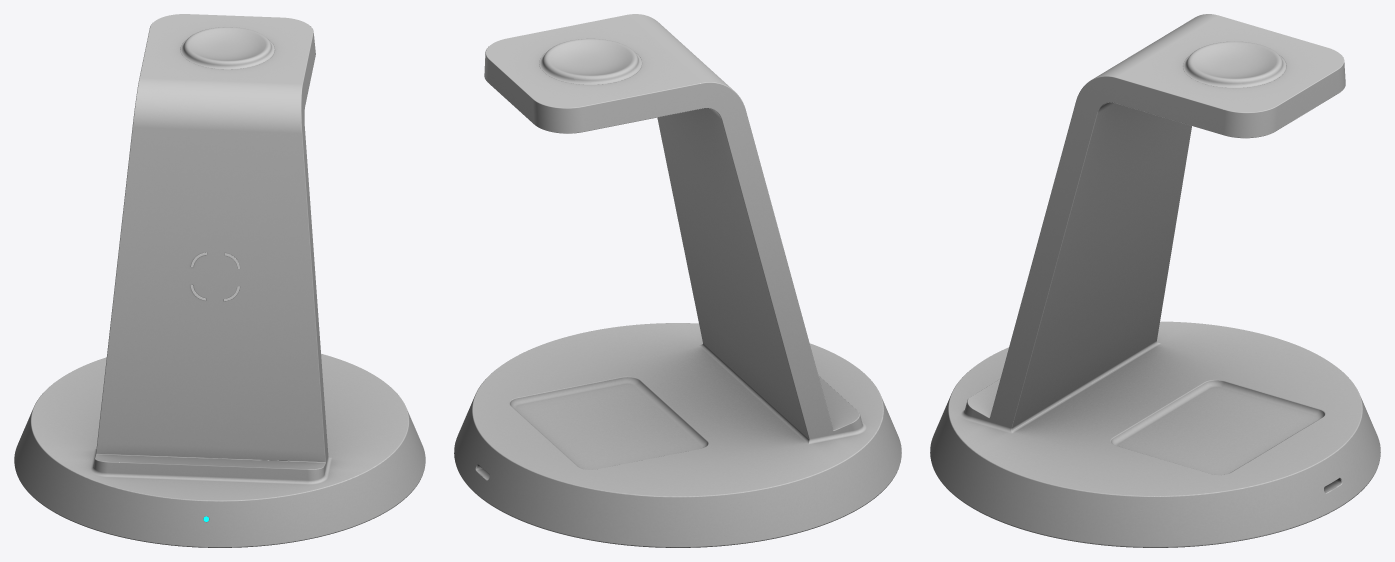
File: Phone_Charger_Model_White.glb
3 views of the same model, side by side, from view 1: azimuth 30°, elevation 25°; view 2: azimuth 150°, elevation 25°; view 3: azimuth 270°, elevation 25° (orthographic). The views are drawn at different scales.
Visible parts, largest first — view 1: NEW_Charger_Model.001, NEW_Charger_Model.003; view 2: NEW_Charger_Model.001, NEW_Charger_Model.003; view 3: NEW_Charger_Model.001, NEW_Charger_Model.003.
Boxes of the visible parts, box(x1,y1,x2,y2) form: NEW_Charger_Model.001: box(14, 14, 425, 547); NEW_Charger_Model.003: box(180, 27, 274, 69); NEW_Charger_Model.001: box(454, 14, 901, 547); NEW_Charger_Model.003: box(539, 38, 641, 84); NEW_Charger_Model.001: box(930, 14, 1380, 547); NEW_Charger_Model.003: box(1183, 41, 1286, 87).
Bounding box in the file's own units: 7.21 × 7.35 × 7.21.
Materials: 2 (1 with a texture image).
